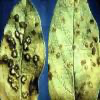Apple Scab Leaf: (47, 0, 99, 99), (0, 0, 48, 99)
